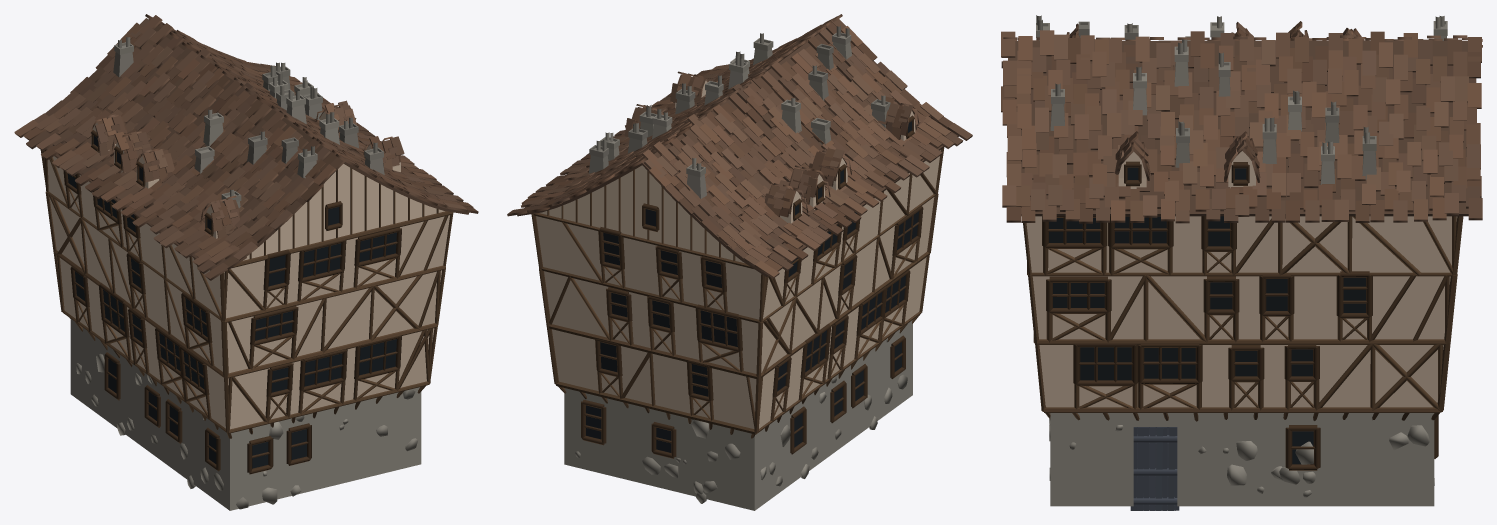
The model's file is house_40.glb.
The picture shows the model from 3 angles, left to right: view 1: azimuth 30°, elevation 25°; view 2: azimuth 150°, elevation 25°; view 3: azimuth 270°, elevation 25°; orthographic projection. The views are drawn at different scales.
Parts seen in each view (by area): view 1: house_40; view 2: house_40; view 3: house_40.
Boxes of the visible parts, x1,y1,x2,y2 form: house_40: [14, 14, 478, 510]; house_40: [507, 14, 972, 510]; house_40: [1001, 15, 1482, 510].
Size of the model in its own units: 8.72 by 10.96 by 11.07.
